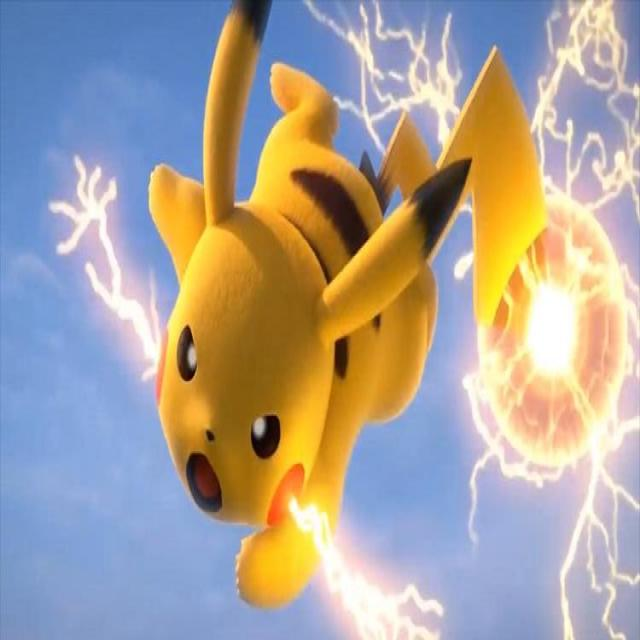pikachu: (148, 0, 547, 608)
